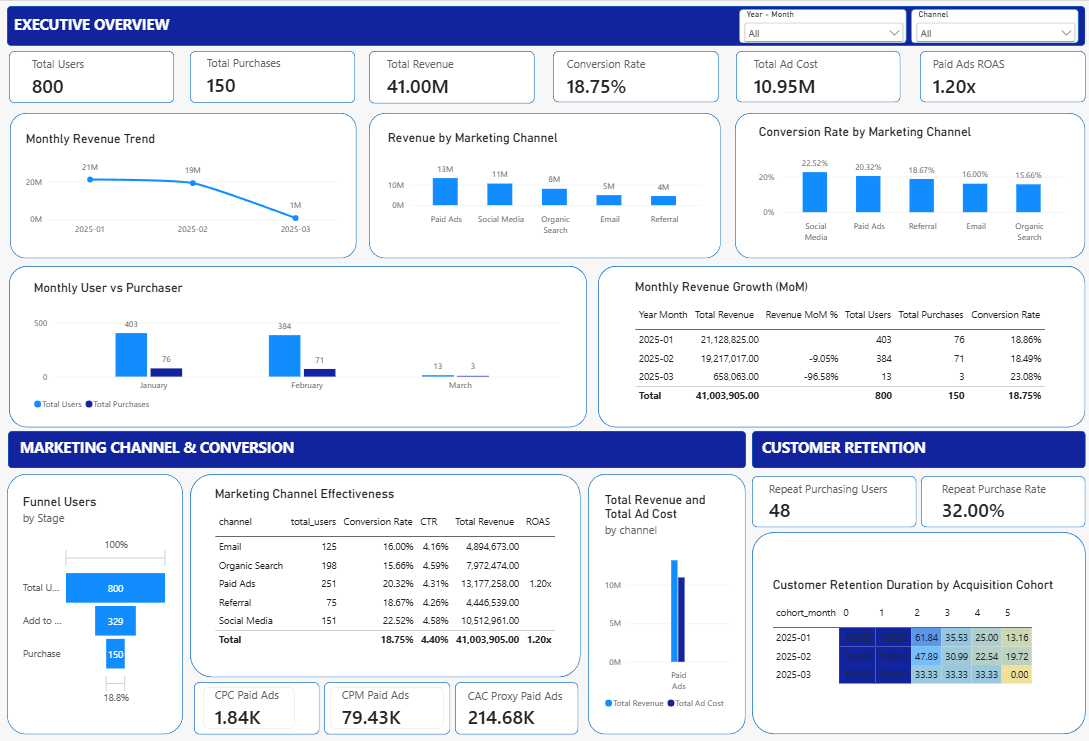

The dashboard page shown, as its layout file describes it:
{"tool":"powerbi","page":{"name":"Dashboard","canvas":[1920,1080],"ordinal":0},"visuals":[{"type":"shape","box":[176.7,73.6,241,76],"z":0},{"type":"cardVisual","fields":{"Data":["marketing_growth_clean.Total Users"]},"box":[192.4,78.7,181.7,63.3],"z":1000},{"type":"shape","box":[177.3,163.3,505.6,212.2],"z":2000},{"type":"lineChart","title":"Monthly Revenue Trend","fields":{"Category":["marketing_growth_clean.year_month"],"Y":["marketing_growth_clean.Total Revenue"]},"box":[184,175.5,487.8,187.8],"z":3000},{"type":"shape","box":[701.8,163.3,513.3,212.2],"z":4000},{"type":"shape","box":[1236.2,163.3,511.1,212.2],"z":5000},{"type":"shape","box":[176.2,386.6,843.3,235.6],"z":6000},{"type":"shape","box":[1036.2,386.6,711.1,235.6],"z":7000},{"type":"shape","box":[173.3,690,256.7,380],"z":8000},{"type":"shape","box":[440,690,570,296.7],"z":9000},{"type":"shape","box":[1021.7,690,230,380],"z":10000},{"type":"shape","box":[1260,775,487,295],"z":11000},{"type":"pivotTable","title":"Customer Retention Duration by Acquisition Cohort","fields":{"Columns":["cohort_retention.month_index"],"Rows":["cohort_retention.cohort_month"],"Values":["Avg(cohort_retention.retention_rate_pct)"]},"box":[1274,826,462,193],"z":12000},{"type":"funnel","fields":{"Category":["Funnel Stages.Stage"],"Y":["Funnel Stages.Funnel Users"]},"box":[178.9,704.4,246.7,341.1],"z":13000},{"type":"tableEx","title":"Monthly Revenue Growth (MoM)","fields":{"Values":["marketing_growth_clean.year_month","marketing_growth_clean.Total Revenue","marketing_growth_clean.Revenue MoM %","marketing_growth_clean.Total Users","marketing_growth_clean.Total Purchases","marketing_growth_clean.Conversion Rate"]},"box":[1071.9,391.6,651.2,225],"z":14000},{"type":"clusteredColumnChart","title":"Monthly User vs Purchaser","fields":{"Category":["marketing_growth_clean.first_visit_date.Variation.Date Hierarchy.Month"],"Y":["marketing_growth_clean.Total Users","marketing_growth_clean.Total Purchases"]},"box":[195.1,392.1,802.2,225.6],"z":15000},{"type":"columnChart","title":"Revenue by Marketing Channel","fields":{"Category":["marketing_growth_clean.channel"],"Y":["marketing_growth_clean.Total Revenue"]},"box":[711.6,173.9,490,187.3],"z":16000},{"type":"tableEx","title":"Marketing Channel Effectiveness","fields":{"Values":["marketing_growth_clean.channel","marketing_channel_summary.total_users","marketing_growth_clean.Conversion Rate","marketing_growth_clean.CTR","marketing_growth_clean.Total Revenue","marketing_growth_clean.ROAS"]},"box":[458.9,693.3,534.4,285.6],"z":17000},{"type":"shape","box":[1505,73.3,241.7,75],"z":18000},{"type":"shape","box":[1236.7,73.3,240,75],"z":19000},{"type":"shape","box":[970,73.3,241.7,75],"z":20000},{"type":"shape","box":[440,73.3,241,76],"z":21000},{"type":"shape","box":[701.7,73.3,241.7,76.7],"z":22000},{"type":"clusteredColumnChart","title":"Conversion Rate by Marketing Channel","fields":{"Category":["marketing_growth_clean.channel"],"Y":["marketing_growth_clean.Conversion Rate"]},"box":[1253.2,165.3,480,206.2],"z":23000},{"type":"clusteredColumnChart","fields":{"Category":["marketing_channel_summary.channel"],"Y":["marketing_growth_clean.Total Revenue","marketing_growth_clean.Total Ad Cost"]},"box":[1028.3,701.7,216.7,353.3],"z":24000},{"type":"shape","box":[175.6,627.8,1076.7,54.4],"z":25000},{"type":"shape","box":[173.3,6.7,1573.3,58.3],"z":26000},{"type":"shape","box":[446.6,993.3,183.3,76.7],"z":27000},{"type":"shape","box":[827.7,993.3,180,76.7],"z":28000},{"type":"shape","box":[636.6,993.3,184.4,76.7],"z":29000},{"type":"shape","box":[1260,693.3,240,75],"z":30000},{"type":"shape","box":[1506.7,693.3,240,75],"z":31000},{"type":"cardVisual","fields":{"Data":["marketing_growth_clean.Total Purchases"]},"box":[448.6,78.6,222.9,62.9],"z":32000},{"type":"cardVisual","fields":{"Data":["marketing_growth_clean.Total Revenue"]},"box":[710,77.5,224.2,67.5],"z":33000},{"type":"cardVisual","fields":{"Data":["marketing_growth_clean.Conversion Rate"]},"box":[973.3,77.8,220,67.8],"z":34000},{"type":"cardVisual","fields":{"Data":["marketing_growth_clean.Total Ad Cost"]},"box":[1245.6,78.9,204.4,63.3],"z":35000},{"type":"cardVisual","fields":{"Data":["marketing_growth_clean.ROAS"]},"box":[1507.5,76.7,216,68],"z":36000},{"type":"textbox","box":[183.3,18.3,275.8,40.8],"z":37000},{"type":"shape","box":[1260,627.8,486.7,54.4],"z":38000},{"type":"textbox","box":[192.2,635.6,446.7,36.7],"z":39000},{"type":"textbox","box":[1274.4,635.6,287.8,36.7],"z":40000},{"type":"shape","box":[1242,11.4,244.5,50],"z":41000},{"type":"slicer","fields":{"Values":["marketing_growth_clean.year_month"]},"box":[1244.7,11.4,241.8,50],"z":42000},{"type":"shape","box":[1492.8,11.4,244.5,50],"z":43000},{"type":"slicer","fields":{"Values":["marketing_growth_clean.channel"]},"box":[1495.5,11.4,241.8,50],"z":44000},{"type":"cardVisual","fields":{"Data":["marketing_growth_clean.Repeat Purchase Rate"]},"box":[1520,701,192,59],"z":45000},{"type":"cardVisual","fields":{"Data":["marketing_growth_clean.Repeat Purchasing Users"]},"box":[1268,701,223,59],"z":46000},{"type":"cardVisual","fields":{"Data":["marketing_growth_clean.CPC Paid Ads"]},"box":[458.9,1001.1,134.4,61.1],"z":47000},{"type":"cardVisual","fields":{"Data":["marketing_growth_clean.CAC Proxy Paid Ads"]},"box":[828.8,998.8,177.5,65.6],"z":48000},{"type":"cardVisual","fields":{"Data":["marketing_growth_clean.CPM Paid Ads"]},"box":[645.6,1001.1,166.7,61.1],"z":49000}]}

Visuals, with their boxes on the page's 1920x1080 design canvas (x1, y1, x2, y2). These are canvas units, not pixel positions in the 1089x741 screenshot, which may show the page scaled, cropped or inside an application window:
shape: box(177, 74, 418, 150)
cardVisual - marketing_growth_clean.Total Users: box(192, 79, 374, 142)
shape: box(177, 163, 683, 376)
"Monthly Revenue Trend" lineChart: box(184, 176, 672, 363)
shape: box(702, 163, 1215, 376)
shape: box(1236, 163, 1747, 376)
shape: box(176, 387, 1020, 622)
shape: box(1036, 387, 1747, 622)
shape: box(173, 690, 430, 1070)
shape: box(440, 690, 1010, 987)
shape: box(1022, 690, 1252, 1070)
shape: box(1260, 775, 1747, 1070)
"Customer Retention Duration by Acquisition Cohort" pivotTable: box(1274, 826, 1736, 1019)
funnel - Funnel Stages.Stage x Funnel Stages.Funnel Users: box(179, 704, 426, 1046)
"Monthly Revenue Growth (MoM)" tableEx: box(1072, 392, 1723, 617)
"Monthly User vs Purchaser" clusteredColumnChart: box(195, 392, 997, 618)
"Revenue by Marketing Channel" columnChart: box(712, 174, 1202, 361)
"Marketing Channel Effectiveness" tableEx: box(459, 693, 993, 979)
shape: box(1505, 73, 1747, 148)
shape: box(1237, 73, 1477, 148)
shape: box(970, 73, 1212, 148)
shape: box(440, 73, 681, 149)
shape: box(702, 73, 943, 150)
"Conversion Rate by Marketing Channel" clusteredColumnChart: box(1253, 165, 1733, 372)
clusteredColumnChart - marketing_channel_summary.channel x marketing_growth_clean.Total Revenue: box(1028, 702, 1245, 1055)
shape: box(176, 628, 1252, 682)
shape: box(173, 7, 1747, 65)
shape: box(447, 993, 630, 1070)
shape: box(828, 993, 1008, 1070)
shape: box(637, 993, 821, 1070)
shape: box(1260, 693, 1500, 768)
shape: box(1507, 693, 1747, 768)
cardVisual - marketing_growth_clean.Total Purchases: box(449, 79, 672, 142)
cardVisual - marketing_growth_clean.Total Revenue: box(710, 78, 934, 145)
cardVisual - marketing_growth_clean.Conversion Rate: box(973, 78, 1193, 146)
cardVisual - marketing_growth_clean.Total Ad Cost: box(1246, 79, 1450, 142)
cardVisual - marketing_growth_clean.ROAS: box(1508, 77, 1724, 145)
textbox: box(183, 18, 459, 59)
shape: box(1260, 628, 1747, 682)
textbox: box(192, 636, 639, 672)
textbox: box(1274, 636, 1562, 672)
shape: box(1242, 11, 1486, 61)
slicer - marketing_growth_clean.year_month: box(1245, 11, 1486, 61)
shape: box(1493, 11, 1737, 61)
slicer - marketing_growth_clean.channel: box(1496, 11, 1737, 61)
cardVisual - marketing_growth_clean.Repeat Purchase Rate: box(1520, 701, 1712, 760)
cardVisual - marketing_growth_clean.Repeat Purchasing Users: box(1268, 701, 1491, 760)
cardVisual - marketing_growth_clean.CPC Paid Ads: box(459, 1001, 593, 1062)
cardVisual - marketing_growth_clean.CAC Proxy Paid Ads: box(829, 999, 1006, 1064)
cardVisual - marketing_growth_clean.CPM Paid Ads: box(646, 1001, 812, 1062)
